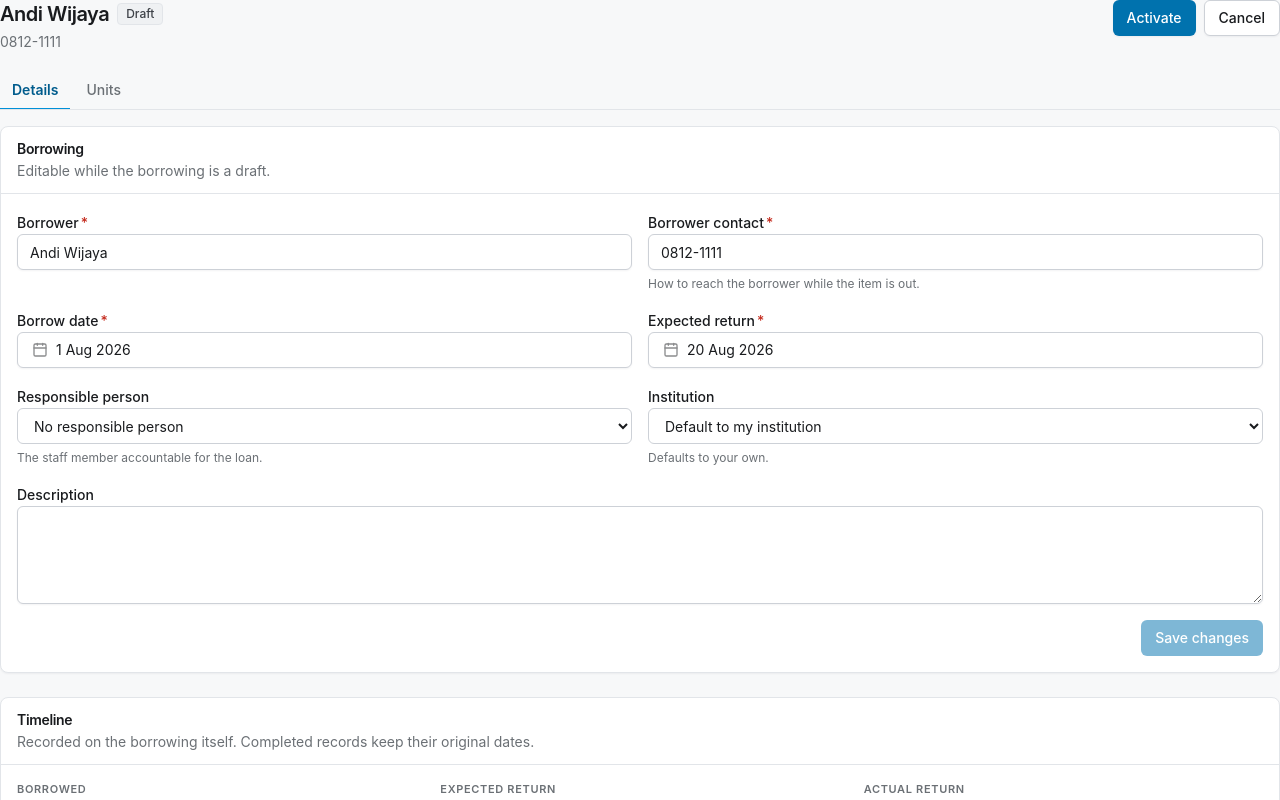
Test: Borrowing units (DEC-012, DEC-041) › lists the units the borrowing covers
This screenshot has width=1280, height=800.
Check: the heading "Andi Wijaya" is shown, box [0,0,109,28]
Click the tab "Units": coordinates (104, 91) [74,72,133,110]
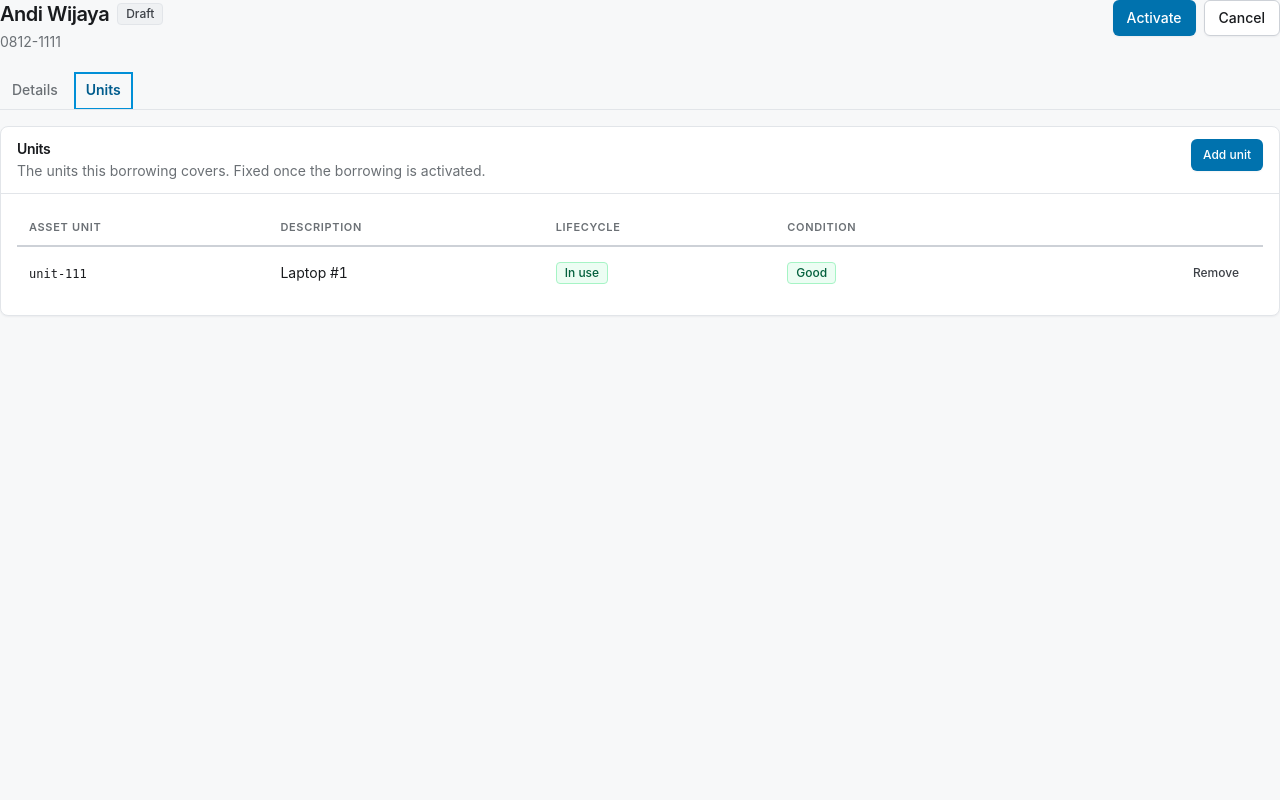
Check: the text "In use" is shown, box [556,262,608,284]
